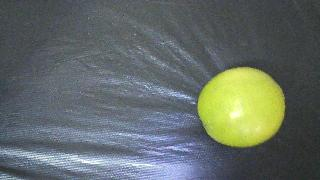LOCAL: (197, 67, 285, 147)
